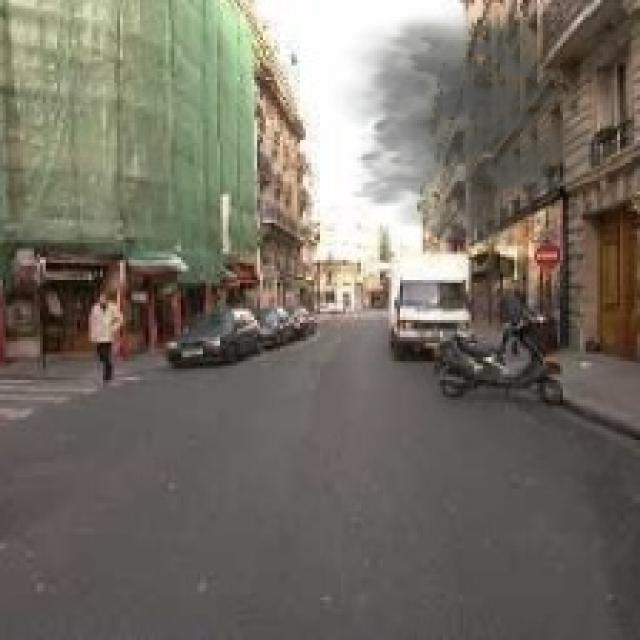Smoke: (326, 0, 588, 246)
